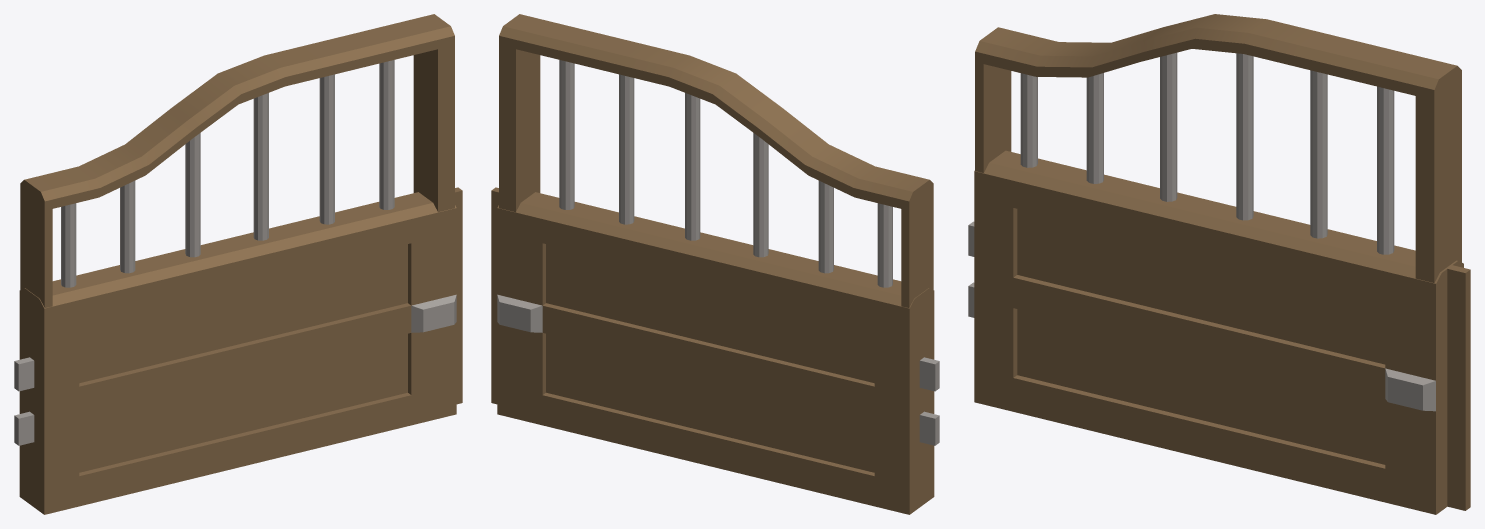
Rendered from O_Enviroment_CarGate_1.fbx.
3 renders of one model, left to right at view 1: azimuth 30°, elevation 25°; view 2: azimuth 150°, elevation 25°; view 3: azimuth 330°, elevation 25°, orthographic. The views are drawn at different scales.
Parts seen in each view (by area): view 1: pCylinder13; view 2: pCylinder13; view 3: pCylinder13.
Part boxes in pixels (<box>): pCylinder13: <box>14,14,462,514</box>; pCylinder13: <box>491,14,939,514</box>; pCylinder13: <box>968,14,1470,514</box>.
Size of the model in its own units: 3.2 by 2.66 by 0.4289.
